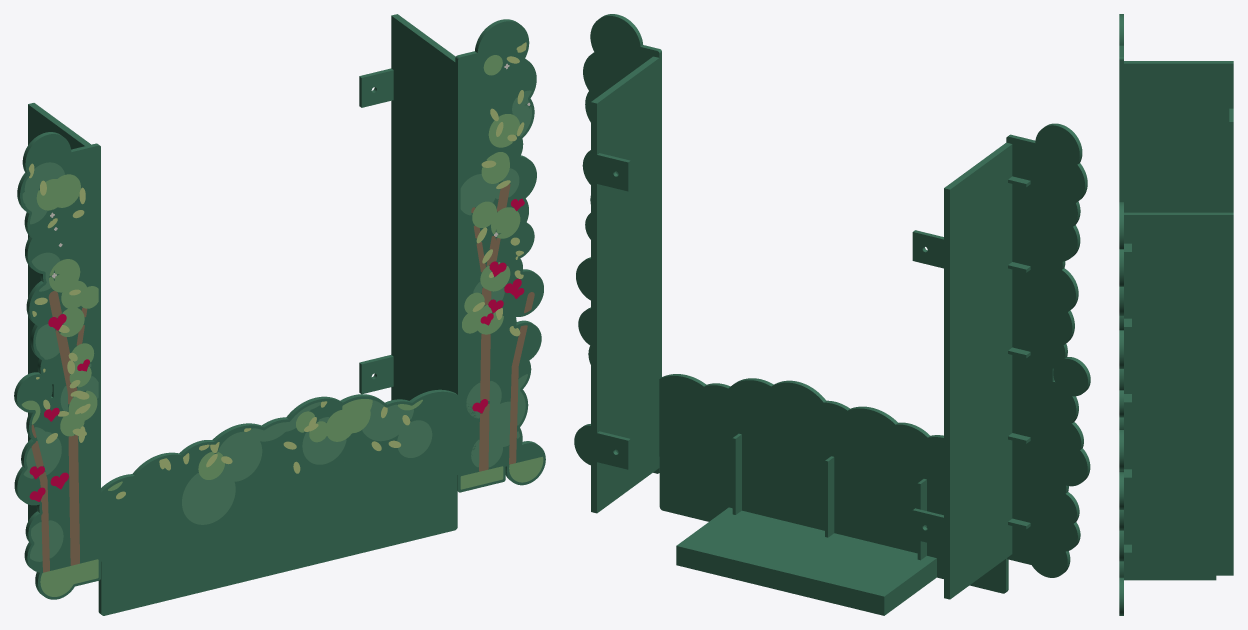
Rendered from parts.glb.
The picture shows the model from 3 angles, left to right: view 1: azimuth 30°, elevation 25°; view 2: azimuth 150°, elevation 25°; view 3: azimuth 270°, elevation 25°; orthographic projection. The views are drawn at different scales.
Parts seen in each view (by area): view 1: wing_right__base, topper__base, wing_left__base, topper__forest, wing_left__leaf, wing_right__leaf, wing_left__forest, wing_right__forest, wing_right__bark, wing_left__bark, topper__leaf, wing_left__lime (+4 smaller); view 2: wing_left__base, topper__base, wing_right__base; view 3: wing_right__base, wing_left__base, topper__base.
Boxes of the visible parts, x1=… form: wing_right__base: x1=359, y1=14, x2=545, y2=492; topper__base: x1=85, y1=389, x2=478, y2=615; wing_left__base: x1=14, y1=103, x2=100, y2=599; topper__forest: x1=182, y1=400, x2=432, y2=524; wing_left__leaf: x1=21, y1=174, x2=98, y2=596; wing_right__leaf: x1=460, y1=55, x2=543, y2=489; wing_left__forest: x1=22, y1=162, x2=98, y2=561; wing_right__forest: x1=460, y1=90, x2=531, y2=467; wing_right__bark: x1=471, y1=184, x2=534, y2=471; wing_left__bark: x1=31, y1=291, x2=87, y2=572; topper__leaf: x1=108, y1=399, x2=422, y2=490; wing_left__lime: x1=29, y1=163, x2=90, y2=443; wing_left__base: x1=912, y1=123, x2=1090, y2=599; topper__base: x1=659, y1=374, x2=1021, y2=615; wing_right__base: x1=574, y1=14, x2=661, y2=513; wing_right__base: x1=1119, y1=202, x2=1233, y2=615; wing_left__base: x1=1119, y1=14, x2=1233, y2=212; topper__base: x1=1124, y1=575, x2=1216, y2=580.
Size of the model in its own units: 333 by 299 by 73.
